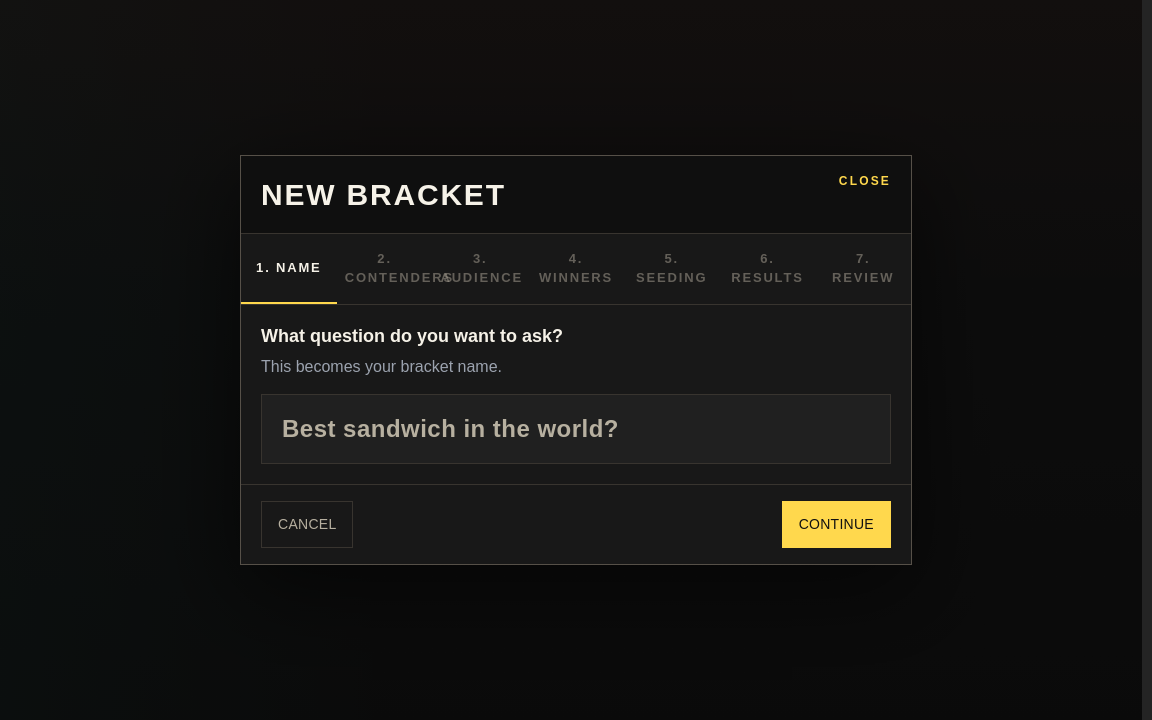
Test: bracket configuration wizard › blocks existing pools that do not have enough candidates
Type "Dinner Finals" into the field with placeholder "Best sandwich in the world?" at (576, 429), box 261,394 -> 891,464
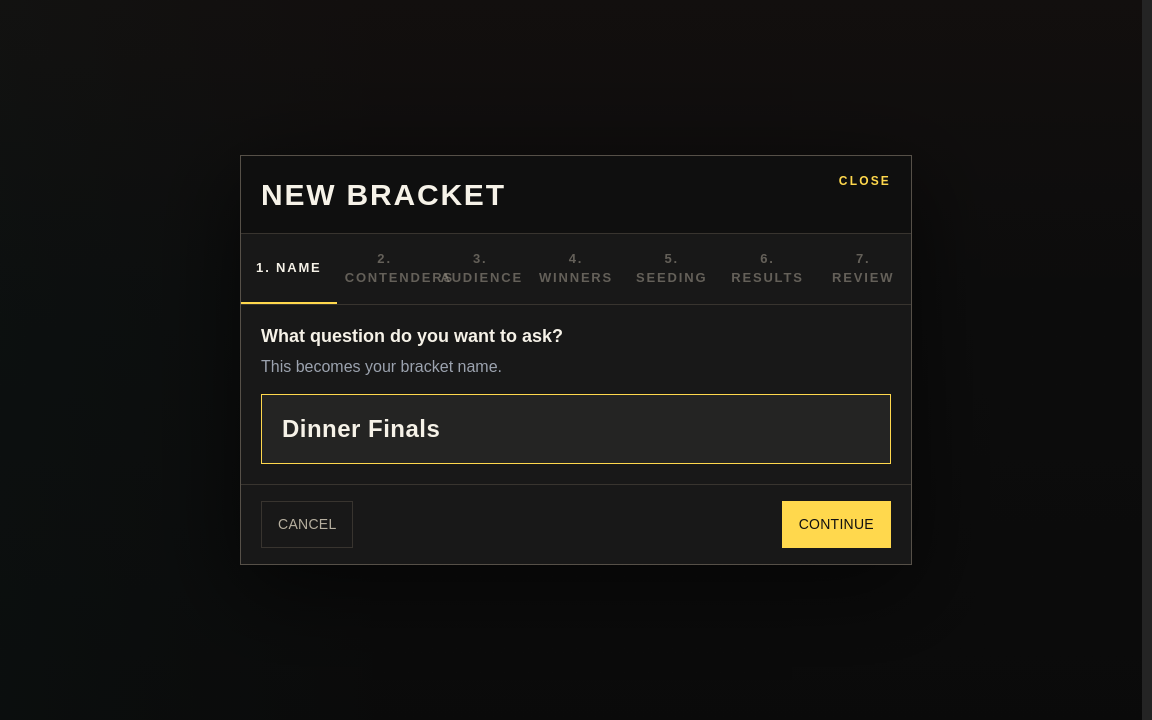
Click the button "Continue" at (836, 524), box 782,501 -> 891,548
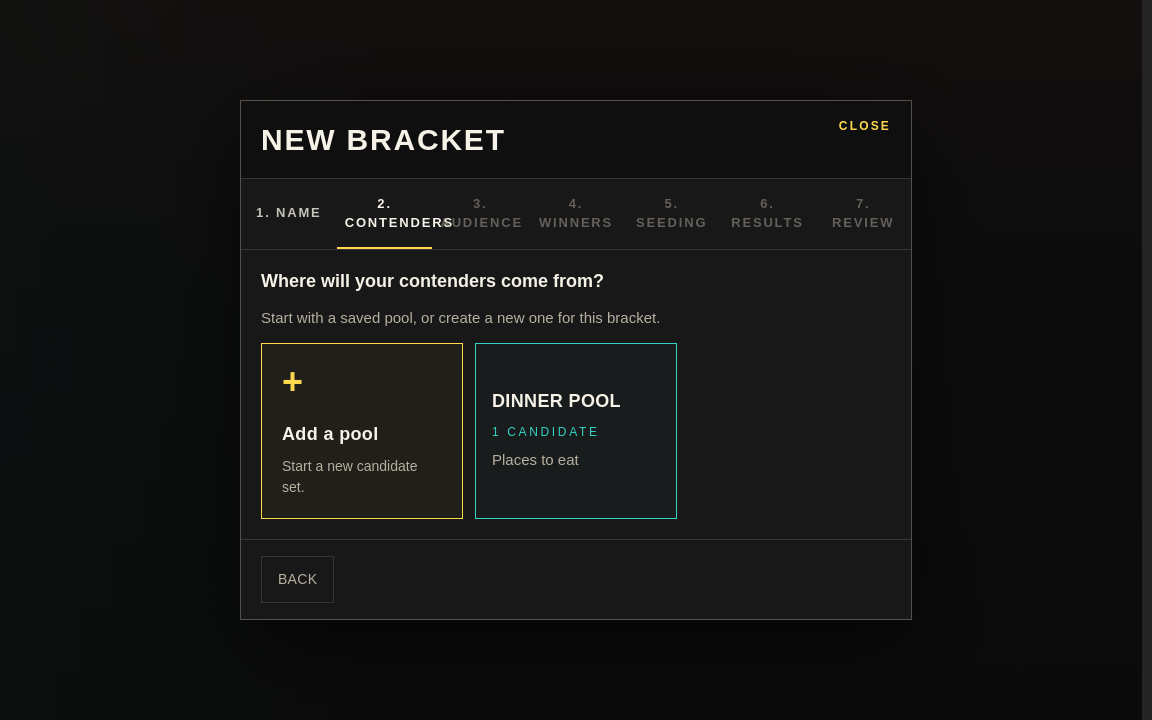
Click the button "Dinner Pool 1 candidate Places to eat" at (576, 431), box 475,343 -> 677,519
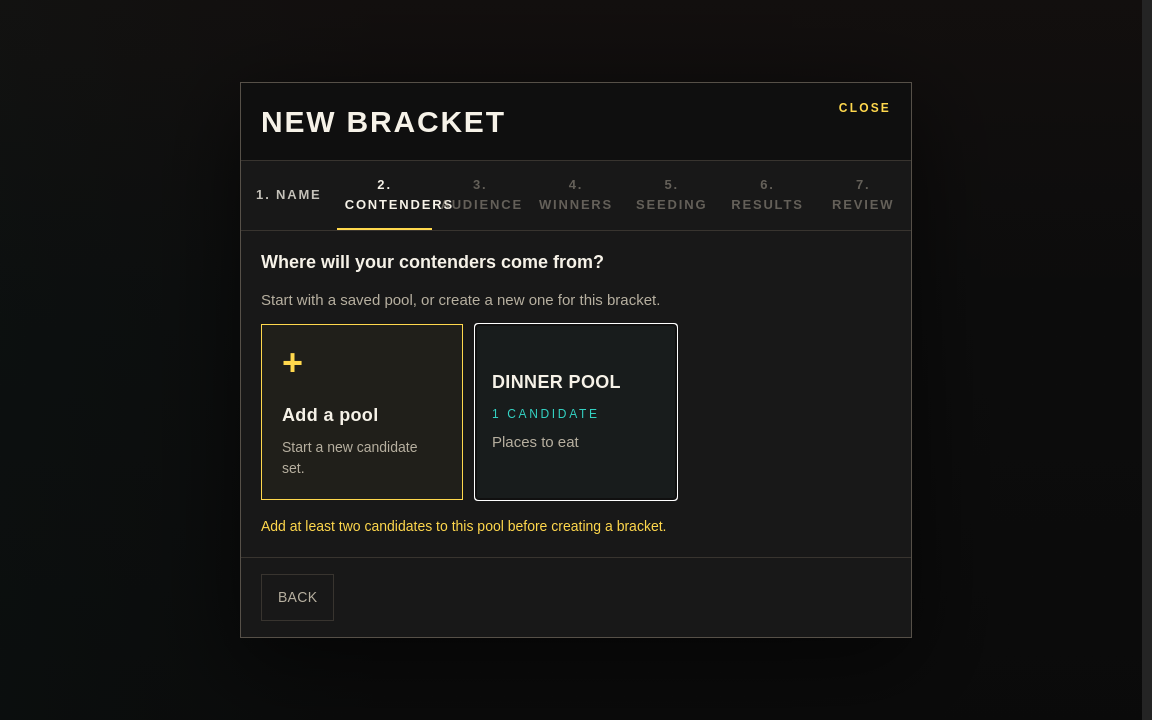
Now the text "Add at least two candidates to this pool before creating a bracket." is shown, box 261,518 -> 666,534
